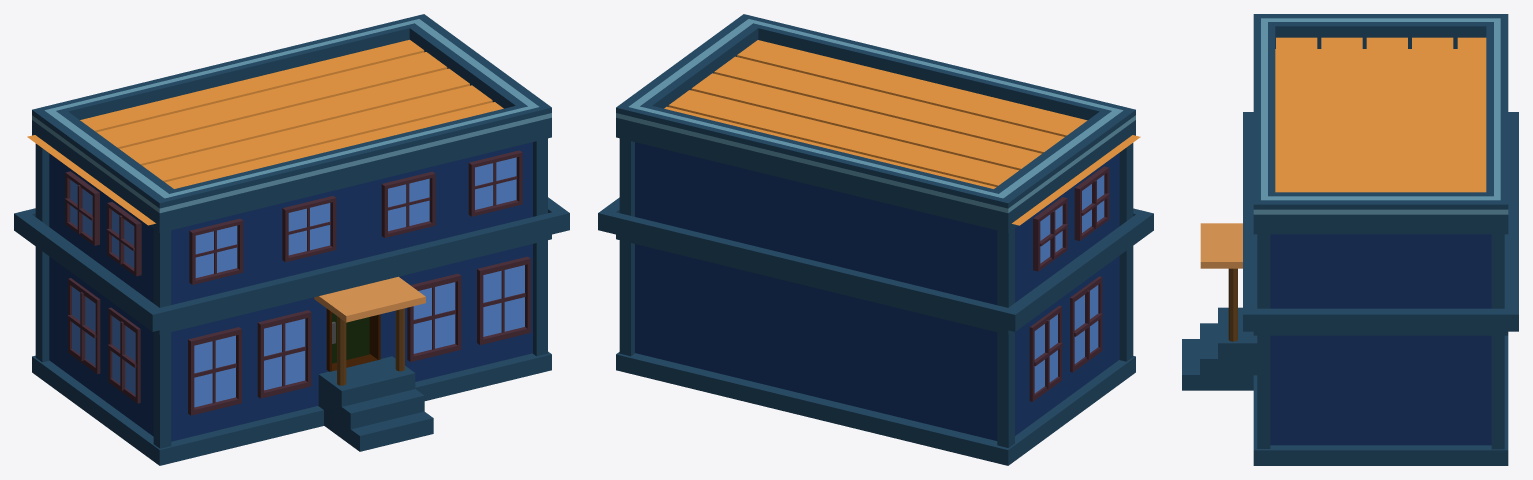
3 renders of one model, left to right at view 1: azimuth 30°, elevation 25°; view 2: azimuth 150°, elevation 25°; view 3: azimuth 270°, elevation 25°, orthographic.
Visible parts, largest first — view 1: Cube.032, Cube.002, Wooden wall.006, Wooden wall.003, Cube, Cube.001, Cube.008, Wooden wall, Plane.010, Plane, Plane.007, Plane.005 (+26 smaller); view 2: Wooden wall.001, Wooden wall.006, Cube.032, Cube.002, Cube, Cube.001, Wooden wall, Wooden wall.003, Cube.014, Cube.013, Cube.016, Cube.015 (+5 smaller); view 3: Cube.002, Wooden wall.002, Cube.032, Wooden wall.006, Cube, Cube.001, Cube.008, Plane.015, Plane.010, Wooden wall.001, Cylinder.
Boxes of the visible parts, x1,y1,x2,y2 form: Cube.032: (32,14,551,232); Cube.002: (80,39,503,188); Wooden wall.006: (35,138,547,307); Wooden wall.003: (153,244,532,448); Cube: (14,197,569,334); Cube.001: (32,351,551,465); Cube.008: (318,356,433,451); Wooden wall: (35,246,153,436); Plane.010: (314,276,425,322); Plane: (194,335,235,407); Plane.007: (483,265,524,336); Plane.005: (264,318,305,390); Wooden wall.001: (619,240,997,440); Wooden wall.006: (619,138,1133,307); Cube.032: (616,14,1135,232); Cube.002: (664,40,1087,188); Cube: (598,197,1153,334); Cube.001: (616,352,1135,465); Wooden wall: (997,256,1119,447); Wooden wall.003: (1119,246,1133,361); Cube.014: (1029,305,1062,401); Cube.013: (1070,276,1102,372); Cube.016: (1033,197,1067,271); Cube.015: (1074,166,1109,240); Cube.002: (1276,37,1486,192); Wooden wall.002: (1257,335,1491,448); Cube.032: (1253,14,1508,234); Wooden wall.006: (1257,234,1504,308); Cube: (1243,112,1518,335); Cube.001: (1253,335,1508,465); Cube.008: (1182,307,1257,390); Plane.015: (1275,49,1457,192); Plane.010: (1200,223,1242,268); Wooden wall.001: (1491,335,1504,449); Cylinder: (1228,268,1237,341).
Size of the model in its own units: 4298 by 2586 by 3020.
